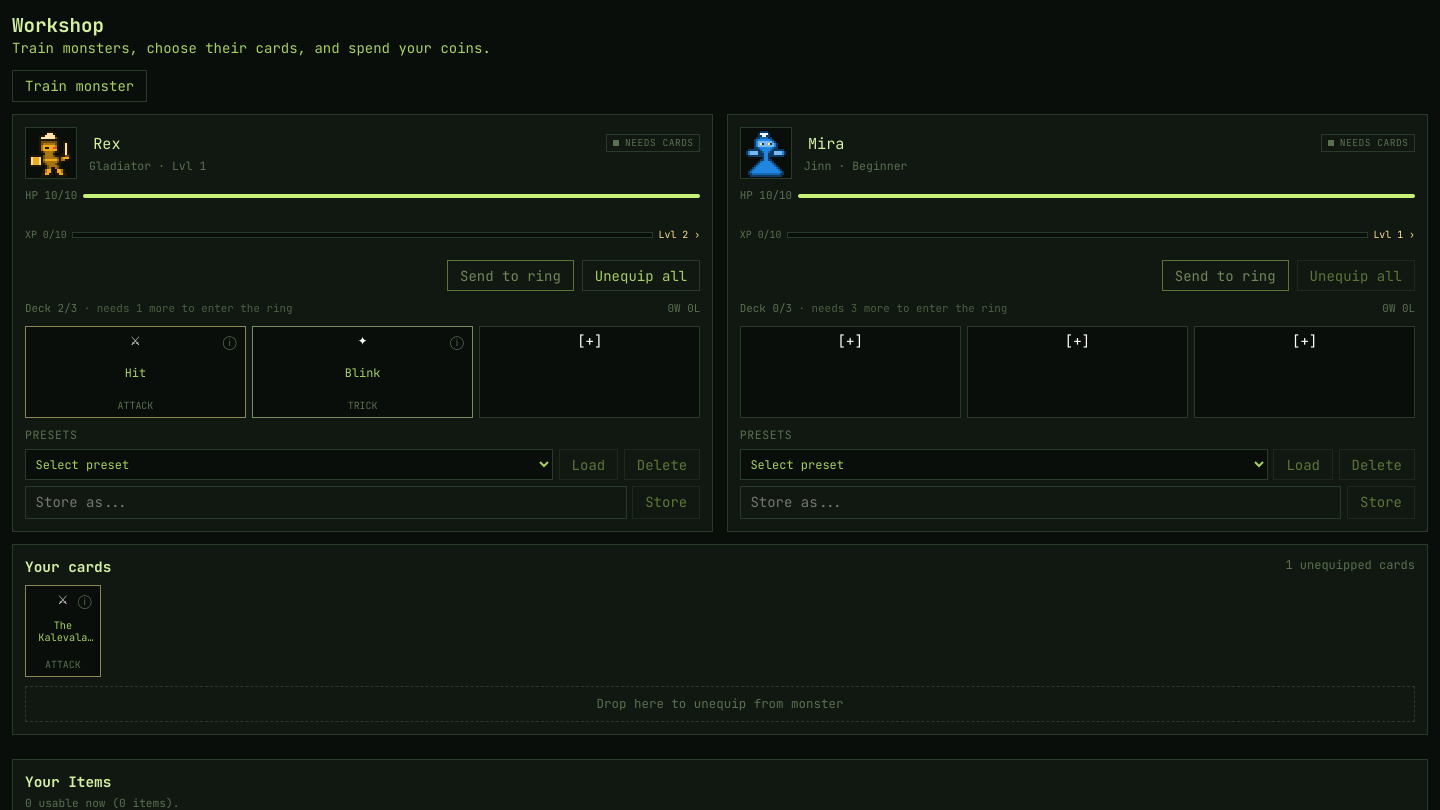
Test: card details sheet in the Workshop › matches a card whose display name carries its dice to the stable facts
This screenshot has width=1440, height=810.
Click the button named "What The Kalevala (1d4) does": [85, 601] box [69,585,101,617]
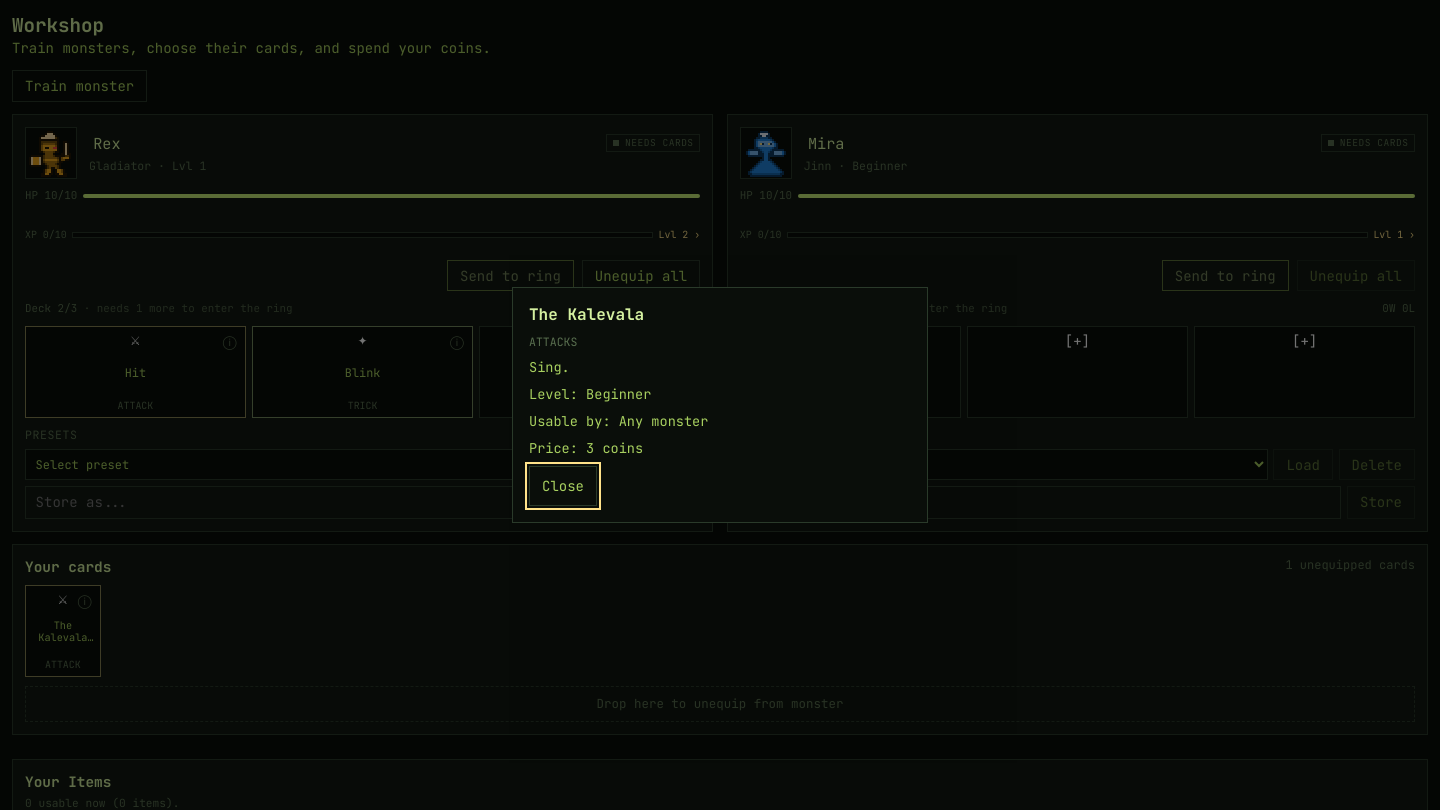
Now the heading "The Kalevala" is shown, box [529,304,644,325]
